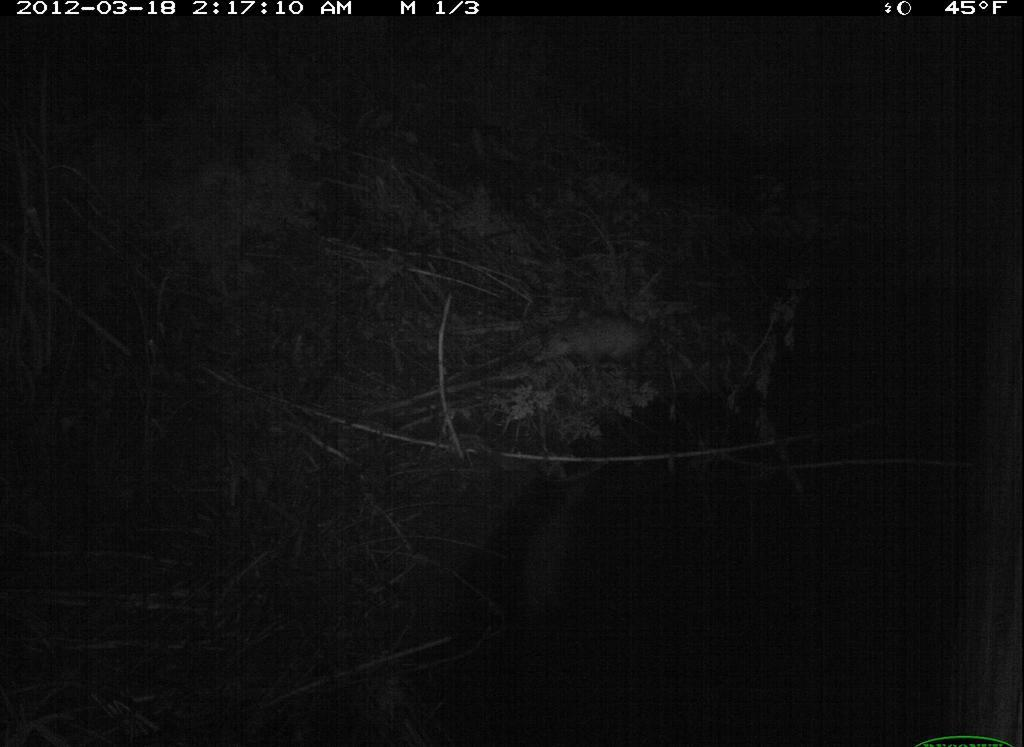opossum: (529, 313, 662, 371)
